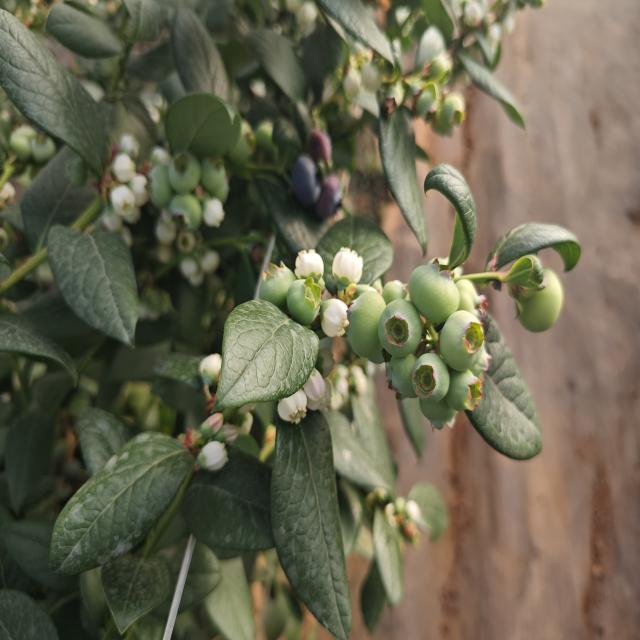ripe: (290, 130, 344, 220)
